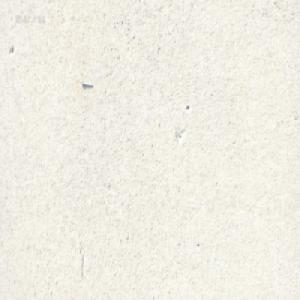Nail: (80, 79, 94, 88)
